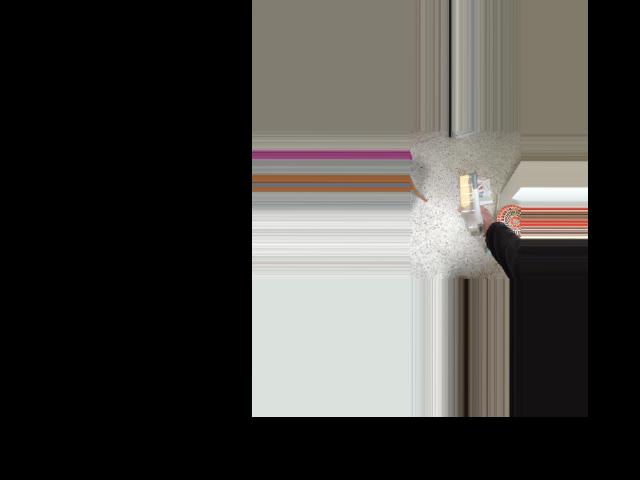cheese: (441, 171, 516, 223)
